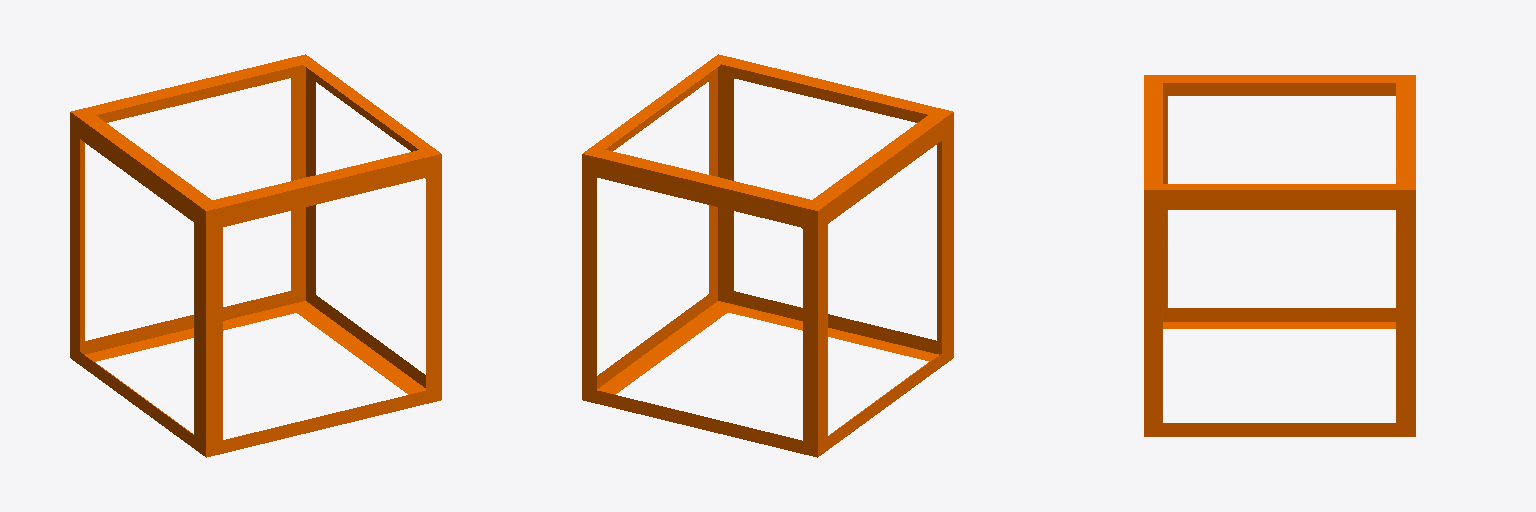
3 renders of one model, left to right at view 1: azimuth 30°, elevation 25°; view 2: azimuth 150°, elevation 25°; view 3: azimuth 270°, elevation 25°, orthographic.
Parts seen in each view (by area): view 1: Cube; view 2: Cube; view 3: Cube.
Part boxes in pixels (x1,y1,x2,y2): Cube: (70,54,441,457); Cube: (582,54,953,457); Cube: (1144,75,1415,436).
Bounding box in the file's own units: 1 × 1 × 1.
1 materials, 1 textured.